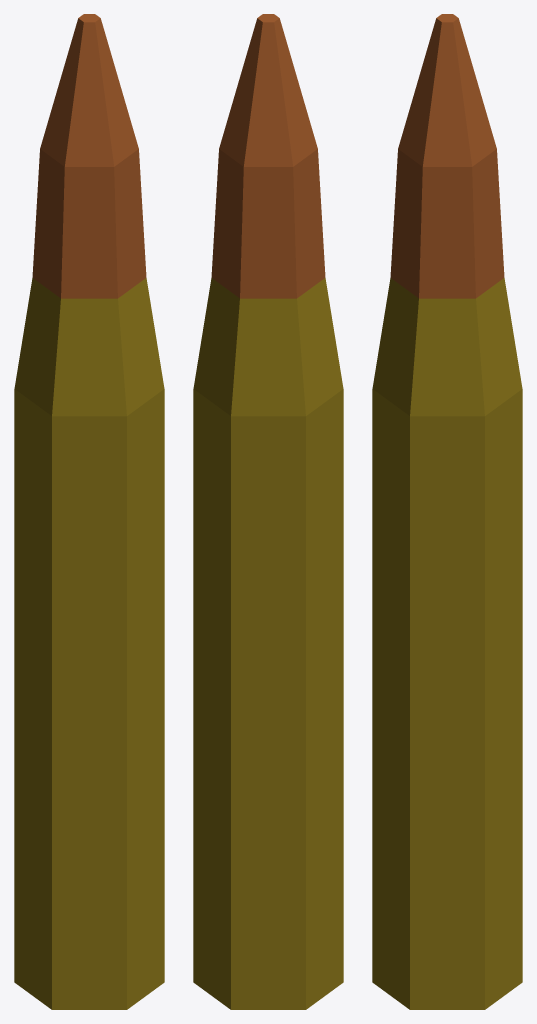
The model's file is Rifle_Bullet_5.56×45mm.fbx.
3 views of the same model, side by side, from view 1: azimuth 30°, elevation 25°; view 2: azimuth 150°, elevation 25°; view 3: azimuth 270°, elevation 25° (orthographic).
Visible parts, largest first — view 1: Rifle_Bullet_5.56×45mm; view 2: Rifle_Bullet_5.56×45mm; view 3: Rifle_Bullet_5.56×45mm.
Part boxes in pixels (<box>): Rifle_Bullet_5.56×45mm: <box>14,14,164,1009</box>; Rifle_Bullet_5.56×45mm: <box>193,14,343,1009</box>; Rifle_Bullet_5.56×45mm: <box>372,14,522,1009</box>.
Bounding box in the file's own units: 0.8225 × 6.74 × 0.9497.
